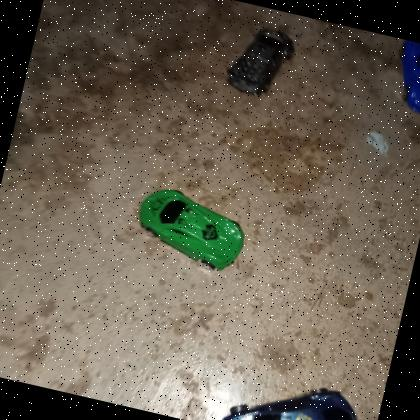Car: (129, 180, 253, 276)
